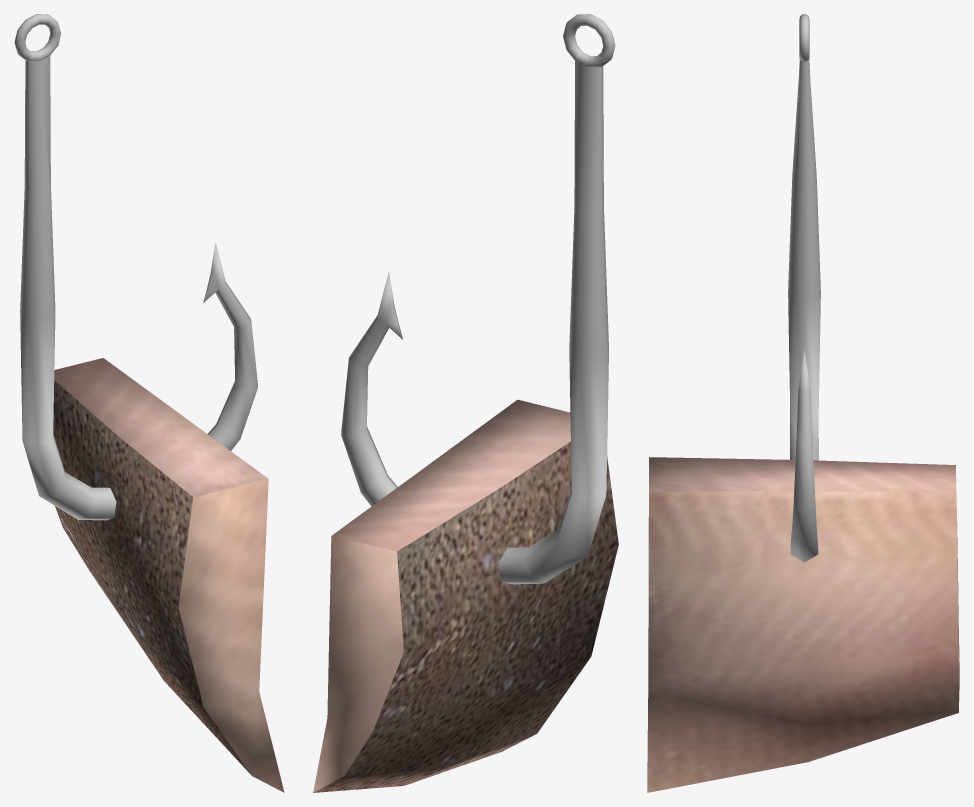
The model's file is Bait_OliveFlounder.fbx.
3 renders of one model, left to right at view 1: azimuth 30°, elevation 25°; view 2: azimuth 150°, elevation 25°; view 3: azimuth 270°, elevation 25°, orthographic. The views are drawn at different scales.
Parts seen in each view (by area): view 1: Bait_FlatFish; view 2: Bait_FlatFish; view 3: Bait_FlatFish.
Part boxes in pixels (left/top/right/bottom): Bait_FlatFish: left=14, top=14, right=284, bottom=792; Bait_FlatFish: left=313, top=14, right=618, bottom=792; Bait_FlatFish: left=647, top=14, right=959, bottom=792.
Bounding box in the file's own units: 0.2116 × 0.63 × 0.2539.
